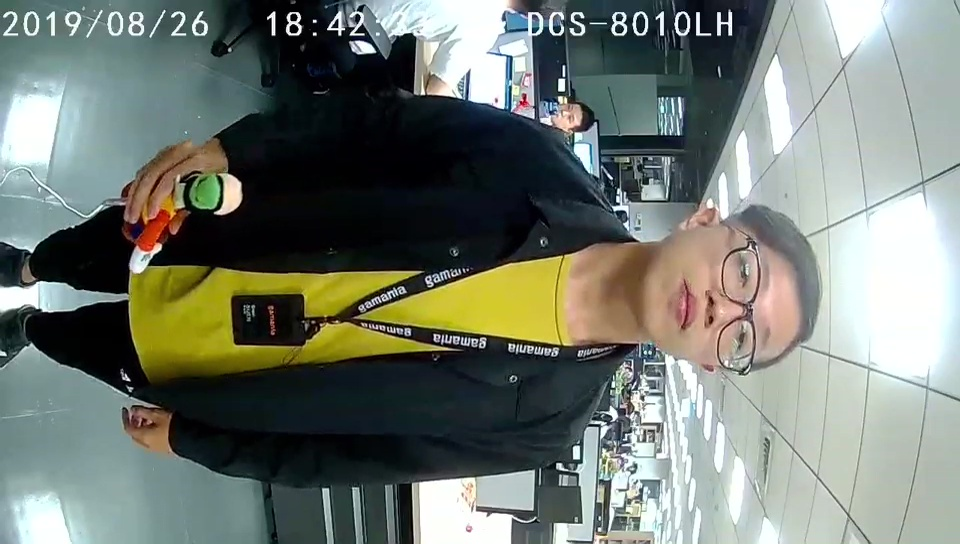goofy: (119, 172, 243, 274)
